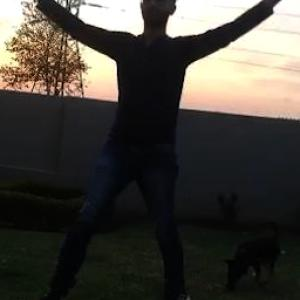takeoff: (34, 0, 241, 299)
